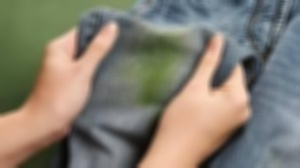earth: (131, 35, 175, 93)
